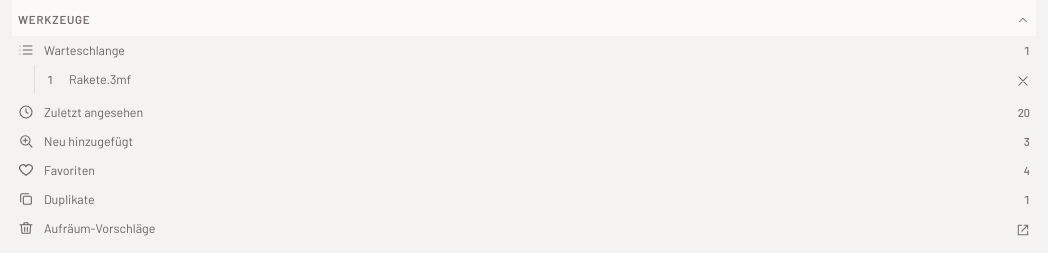
Test case: ToolsSection › collapses and expands the queue list
Expected: the text "Rakete.3mf" is shown, [69, 71, 131, 87]
Click the button "Warteschlange 1". click: x=85, y=50
box: [12, 36, 1036, 64]
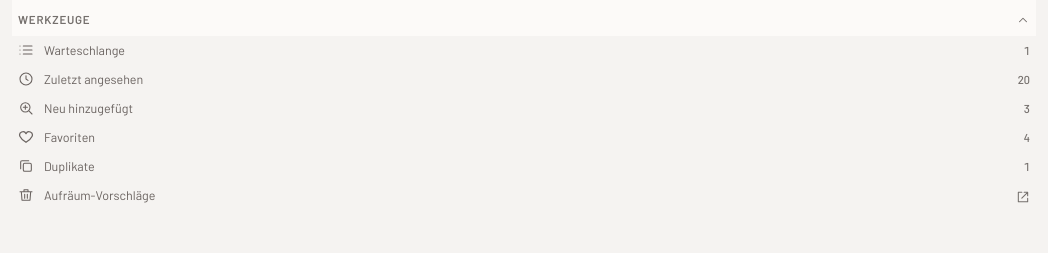
Expected: the text "Rakete.3mf" is gone
Click the button "Warteschlange 1". click: x=85, y=50
box: [12, 36, 1036, 64]
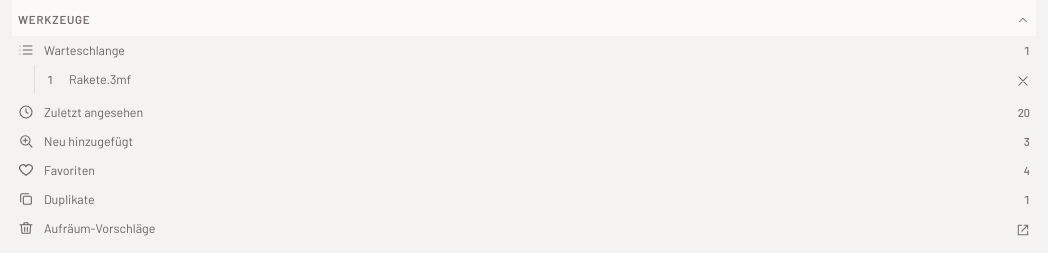
Expected: the text "Rakete.3mf" is shown, [69, 71, 131, 87]
